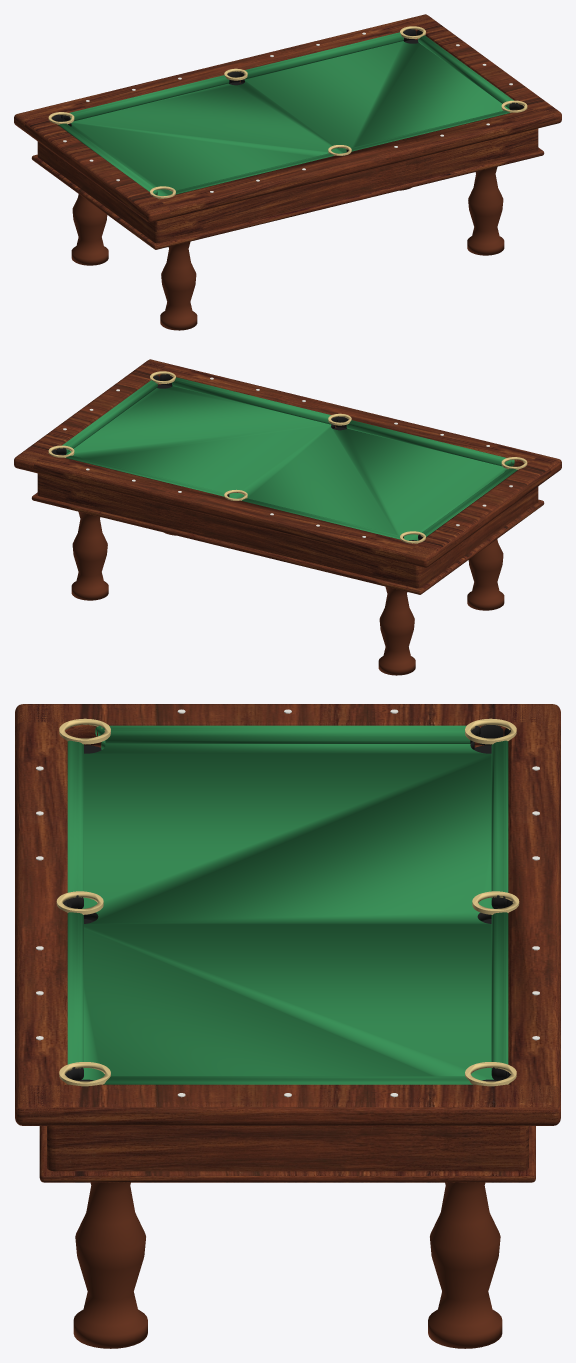
File: pool_table.glb
The picture shows the model from 3 angles, top to bottom: view 1: azimuth 30°, elevation 25°; view 2: azimuth 150°, elevation 25°; view 3: azimuth 270°, elevation 25°; orthographic projection. The views are drawn at different scales.
Visible parts, largest first — view 1: dark_wood, felt, brass; view 2: dark_wood, felt, brass; view 3: felt, dark_wood, brass.
Boxes of the visible parts, left/top/right/bottom form: dark_wood: left=14, top=14, right=561, bottom=330; felt: left=58, top=32, right=519, bottom=195; brass: left=48, top=26, right=527, bottom=198; dark_wood: left=14, top=359, right=561, bottom=675; felt: left=56, top=377, right=517, bottom=540; brass: left=48, top=371, right=527, bottom=543; felt: left=67, top=725, right=508, bottom=1084; dark_wood: left=15, top=704, right=560, bottom=1348; brass: left=56, top=718, right=519, bottom=1086.
Size of the model in its own units: 2.7 by 0.878 by 1.54.
Materials: 5 (1 with a texture image).
